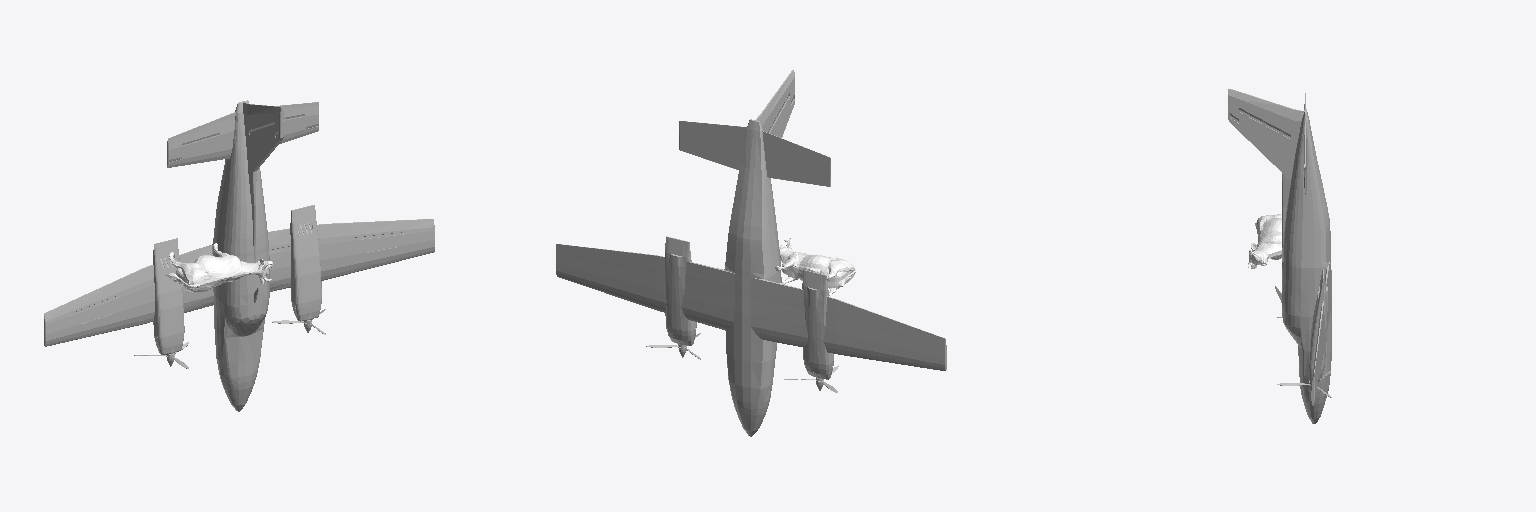
The model's file is cowcessna.obj.
3 views of the same model, side by side, from view 1: azimuth 30°, elevation 25°; view 2: azimuth 150°, elevation 25°; view 3: azimuth 270°, elevation 25° (orthographic).
Parts seen in each view (by area): view 1: Group_MatrixTransform_Group_cessna.osg_Geometry_0, Group_MatrixTransform_Group_cow.osg_Geometry_0; view 2: Group_MatrixTransform_Group_cessna.osg_Geometry_0, Group_MatrixTransform_Group_cow.osg_Geometry_0; view 3: Group_MatrixTransform_Group_cessna.osg_Geometry_0, Group_MatrixTransform_Group_cow.osg_Geometry_0.
Part boxes in pixels (x1,y1,x2,y2): Group_MatrixTransform_Group_cessna.osg_Geometry_0: (44, 100, 434, 411); Group_MatrixTransform_Group_cow.osg_Geometry_0: (165, 243, 273, 292); Group_MatrixTransform_Group_cessna.osg_Geometry_0: (556, 70, 946, 436); Group_MatrixTransform_Group_cow.osg_Geometry_0: (775, 238, 855, 295); Group_MatrixTransform_Group_cessna.osg_Geometry_0: (1228, 89, 1331, 423); Group_MatrixTransform_Group_cow.osg_Geometry_0: (1248, 214, 1281, 268).
Size of the model in its own units: 44.3 by 36.33 by 10.24.